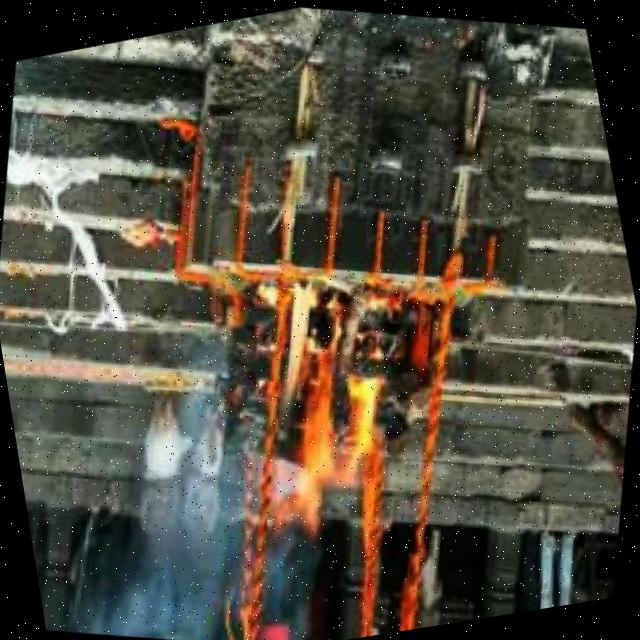fire: (224, 259, 432, 545)
